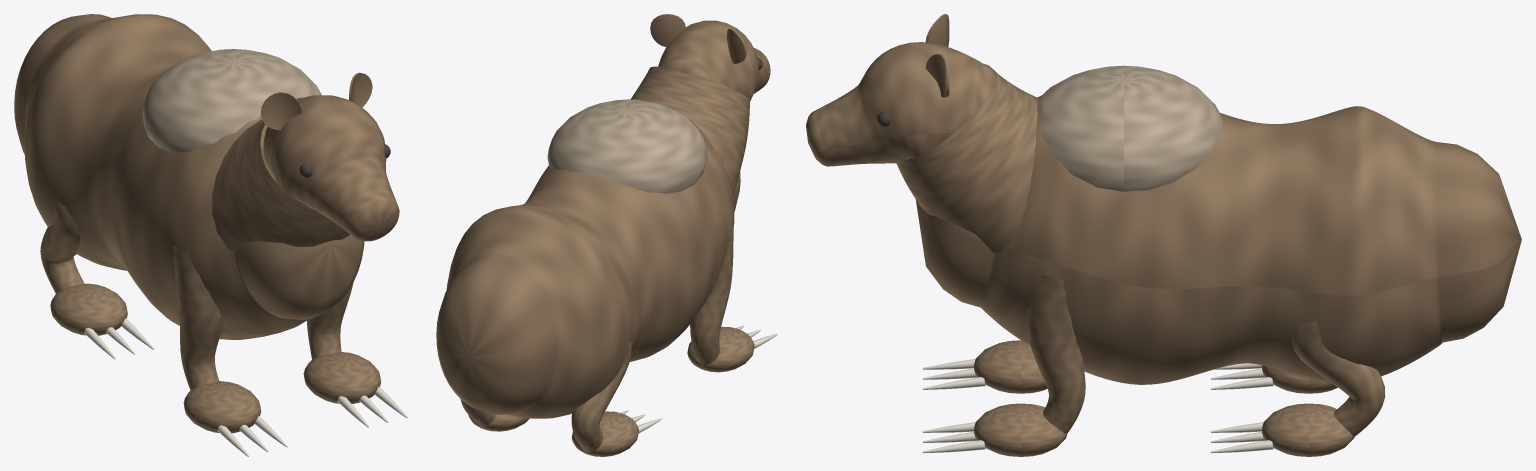
The model's file is other-grizzly-bear.glb.
3 views of the same model, side by side, from view 1: azimuth 30°, elevation 25°; view 2: azimuth 150°, elevation 25°; view 3: azimuth 270°, elevation 25° (orthographic). The views are drawn at different scales.
Visible parts, largest first — view 1: grizzly-bear; view 2: grizzly-bear; view 3: grizzly-bear.
Part boxes in pixels (x1,y1,x2,y2): grizzly-bear: [14, 14, 407, 456]; grizzly-bear: [436, 14, 777, 456]; grizzly-bear: [806, 14, 1521, 456].
Bounding box in the file's own units: 0.755 × 1.33 × 2.25.
5 materials, 2 textured.
